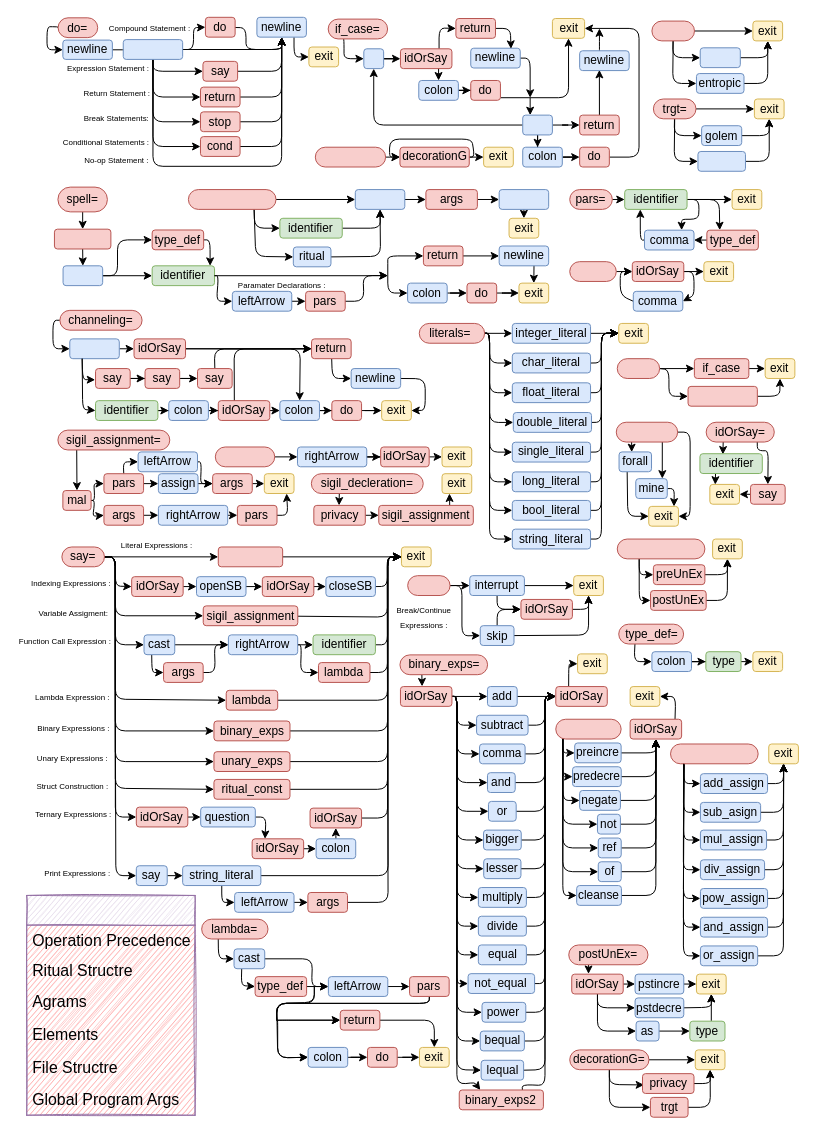
This 816x1135 diagram has some shape labels left out. Each missing label, with the box of its shape:
args=: (569, 261, 616, 281)
binary_exps2=: (670, 743, 758, 764)
channel: (69, 338, 119, 359)
channelling: (687, 385, 757, 406)
closeP: (498, 189, 549, 209)
cond=: (616, 358, 660, 378)
crystal: (699, 47, 740, 68)
else: (522, 114, 552, 135)
if: (363, 48, 384, 69)
indent: (122, 39, 183, 59)
literals: (217, 546, 283, 567)
mal=: (651, 20, 694, 41)
openP: (354, 189, 405, 209)
preUnEx=: (555, 718, 621, 739)
privacy=: (615, 421, 678, 442)
return=: (214, 446, 275, 467)
ritual_const=: (187, 189, 276, 209)
spell: (62, 265, 103, 286)
spell_dec: (53, 228, 111, 249)
spell_dec=: (314, 146, 386, 167)
stop=: (407, 575, 450, 595)
TO-DO: (26, 894, 195, 1115)
unary_exps=: (616, 538, 705, 559)
whisper: (697, 150, 745, 171)
